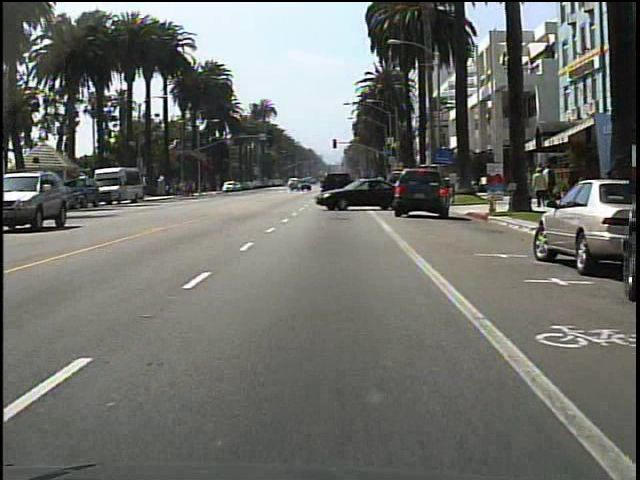person: (543, 160, 559, 208), (372, 169, 389, 207), (533, 166, 548, 208)
